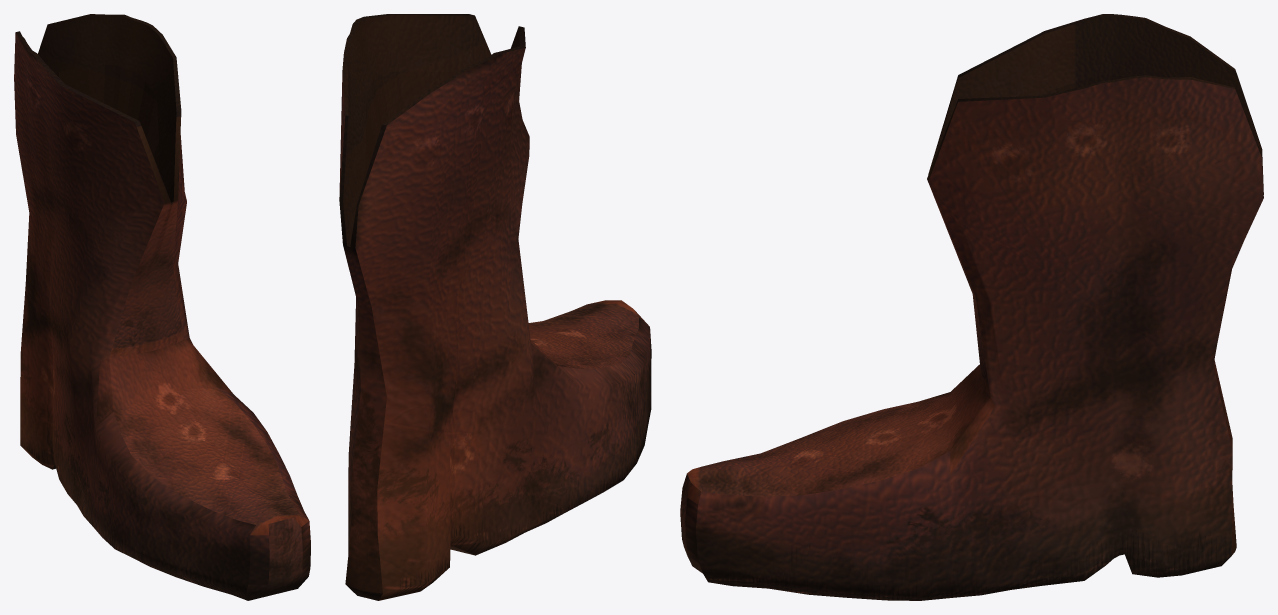
The model's file is OldDirtyBoot.fbx.
3 views of the same model, side by side, from view 1: azimuth 30°, elevation 25°; view 2: azimuth 150°, elevation 25°; view 3: azimuth 270°, elevation 25° (orthographic). The views are drawn at different scales.
Visible parts, largest first — view 1: BOOT; view 2: BOOT; view 3: BOOT.
Part boxes in pixels (bbox=[...]): BOOT: bbox=[14, 14, 310, 600]; BOOT: bbox=[339, 14, 651, 600]; BOOT: bbox=[680, 14, 1263, 600].
Bounding box in the file's own units: 2.75 × 7.31 × 7.54.
Materials: 1 (1 with a texture image).
